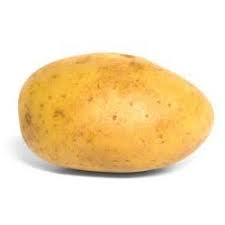potato: (16, 52, 219, 172)
